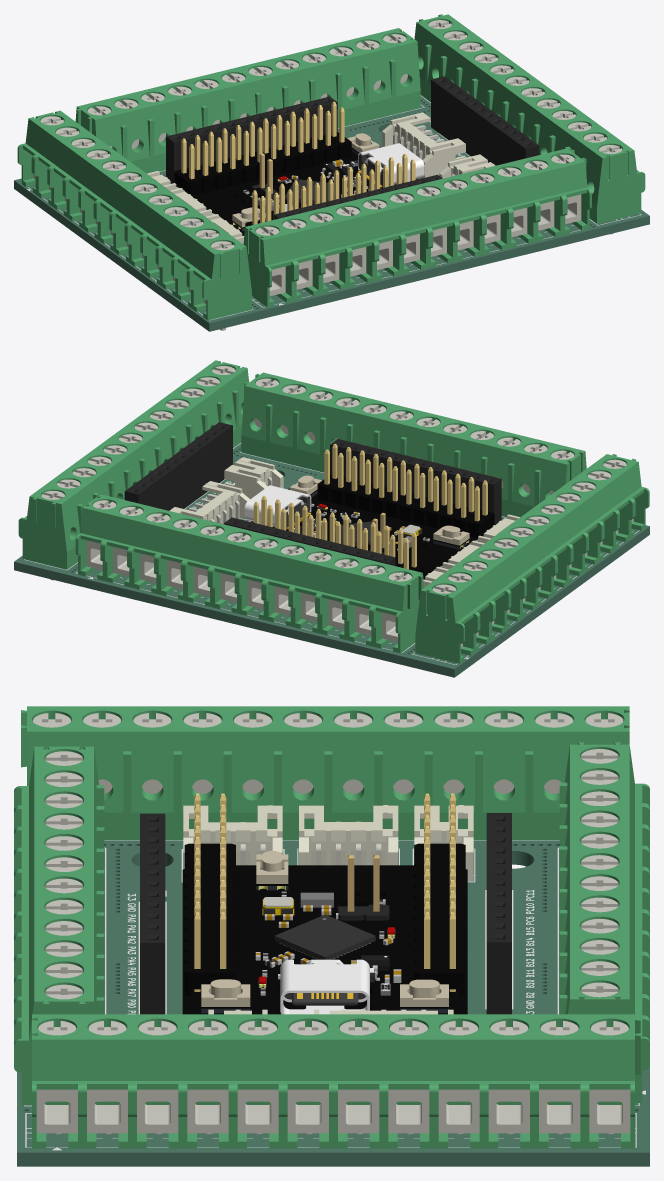
File: STM32G431-Breakout.glb
3 views of the same model, one above another, from view 1: azimuth 30°, elevation 25°; view 2: azimuth 150°, elevation 25°; view 3: azimuth 270°, elevation 25° (orthographic). The views are drawn at different scales.
Visible parts, largest first — view 1: =>[0:1:1:9] (×4), =>[0:1:1:15], =>[0:1:1:204], =>[0:1:1:7] (×3), =>[0:1:1:199], NAUO2, =>[0:1:1:5], =>[0:1:1:202], =>[0:1:1:201]; view 2: =>[0:1:1:9] (×4), =>[0:1:1:15], =>[0:1:1:204], =>[0:1:1:7] (×3), =>[0:1:1:199], =>[0:1:1:5], NAUO2, =>[0:1:1:202]; view 3: =>[0:1:1:9] (×4), =>[0:1:1:204], =>[0:1:1:15], =>[0:1:1:7] (×2), =>[0:1:1:13] (×2), NAUO2, =>[0:1:1:202], =>[0:1:1:5], =>[0:1:1:201].
Boxes of the visible parts, x1=… form: =>[0:1:1:9] (×4): x1=17, y1=14, x2=645, y2=330; =>[0:1:1:15]: x1=174, y1=101, x2=422, y2=235; =>[0:1:1:204]: x1=14, y1=95, x2=649, y2=331; =>[0:1:1:7] (×3): x1=166, y1=76, x2=539, y2=219; =>[0:1:1:199]: x1=382, y1=112, x2=465, y2=177; NAUO2: x1=357, y1=143, x2=424, y2=187; =>[0:1:1:5]: x1=439, y1=154, x2=495, y2=178; =>[0:1:1:202]: x1=27, y1=95, x2=641, y2=320; =>[0:1:1:201]: x1=252, y1=153, x2=279, y2=199; =>[0:1:1:9] (×4): x1=18, y1=360, x2=649, y2=663; =>[0:1:1:15]: x1=246, y1=444, x2=494, y2=579; =>[0:1:1:204]: x1=14, y1=442, x2=649, y2=677; =>[0:1:1:7] (×3): x1=124, y1=422, x2=501, y2=565; =>[0:1:1:199]: x1=169, y1=481, x2=249, y2=524; =>[0:1:1:5]: x1=224, y1=457, x2=283, y2=499; NAUO2: x1=244, y1=485, x2=311, y2=529; =>[0:1:1:202]: x1=24, y1=443, x2=639, y2=664; =>[0:1:1:9] (×4): x1=14, y1=706, x2=649, y2=1148; =>[0:1:1:204]: x1=17, y1=840, x2=649, y2=1166; =>[0:1:1:15]: x1=182, y1=793, x2=467, y2=1014; =>[0:1:1:7] (×2): x1=140, y1=813, x2=511, y2=1014; =>[0:1:1:13] (×2): x1=183, y1=805, x2=398, y2=869; NAUO2: x1=280, y1=959, x2=369, y2=1014; =>[0:1:1:202]: x1=24, y1=840, x2=645, y2=1150; =>[0:1:1:5]: x1=414, y1=805, x2=473, y2=881; =>[0:1:1:201]: x1=338, y1=855, x2=389, y2=920.
Size of the model in its own units: 0.0825 by 0.015 by 0.0633.
